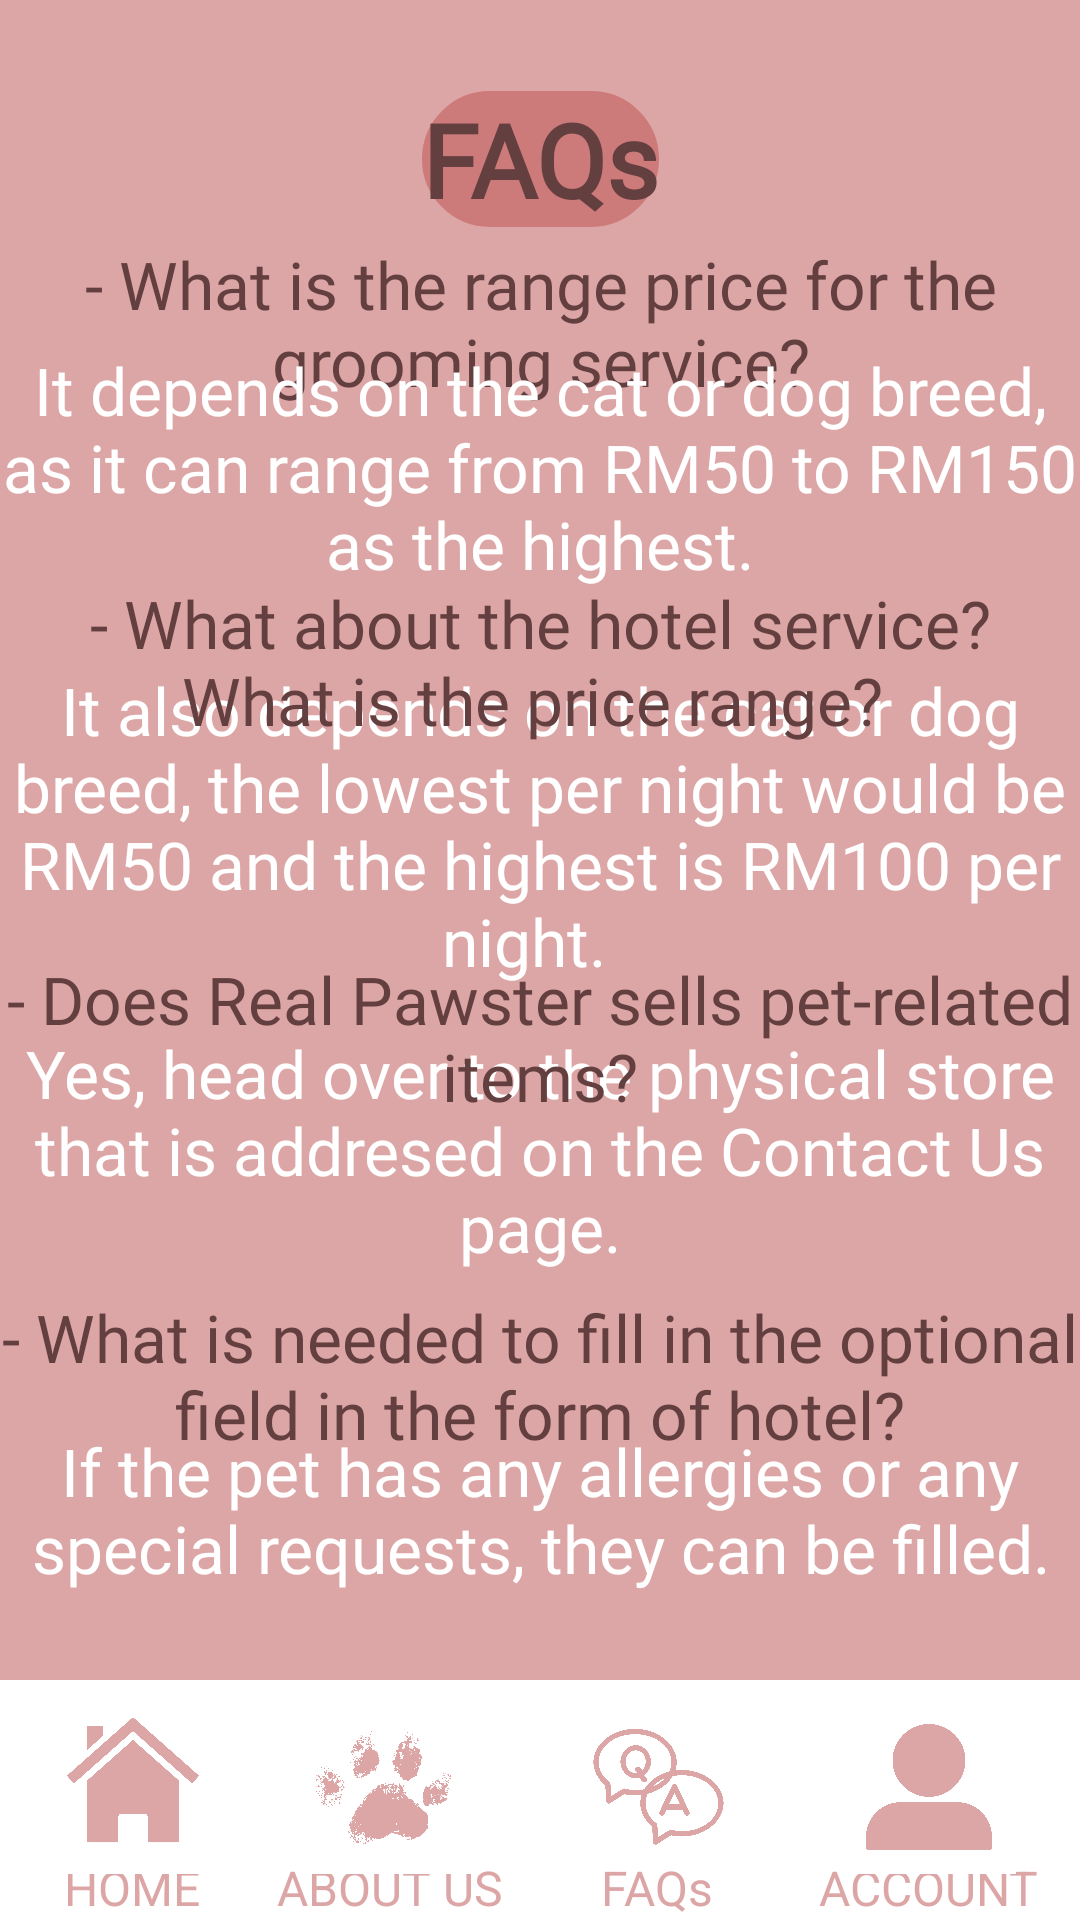

Where to tap for icons on this 1080px x 1920px app screen, as point (x, y):
paw: point (383, 1787)
